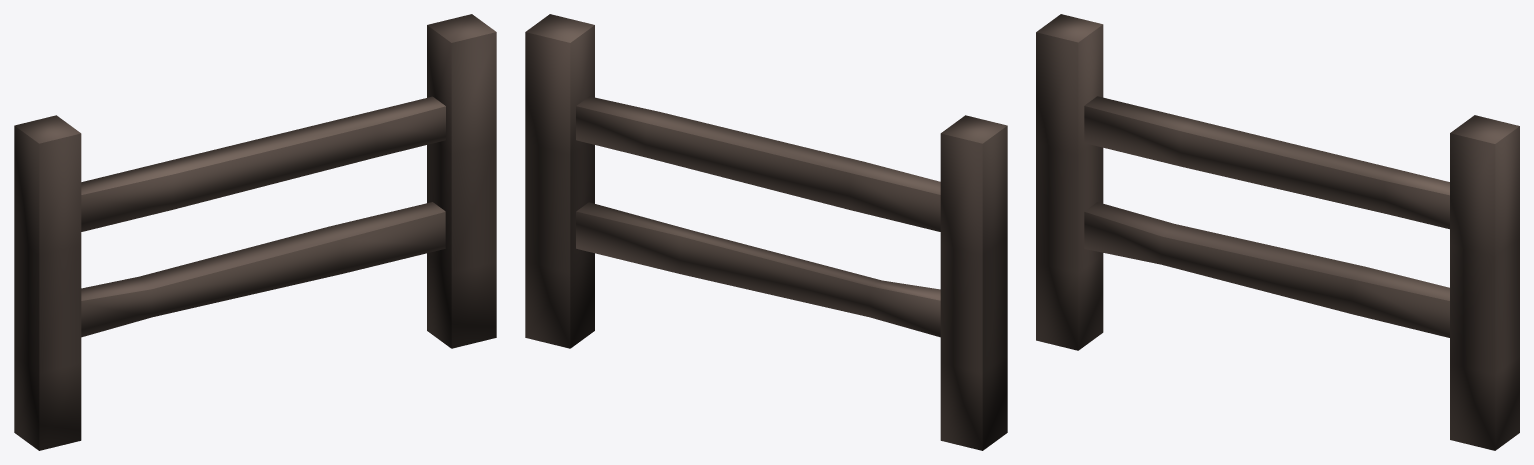
The model's file is furnishings-barriers-woodenfence_v1.glb.
The picture shows the model from 3 angles, left to right: view 1: azimuth 30°, elevation 25°; view 2: azimuth 150°, elevation 25°; view 3: azimuth 330°, elevation 25°; orthographic projection.
Parts seen in each view (by area): view 1: WoodenFence_v1; view 2: WoodenFence_v1; view 3: WoodenFence_v1.
Part boxes in pixels (x1,y1,x2,y2): WoodenFence_v1: (14,14,496,450); WoodenFence_v1: (525,14,1007,450); WoodenFence_v1: (1036,14,1519,450).
Size of the model in its own units: 2.21 by 1.43 by 0.208.
